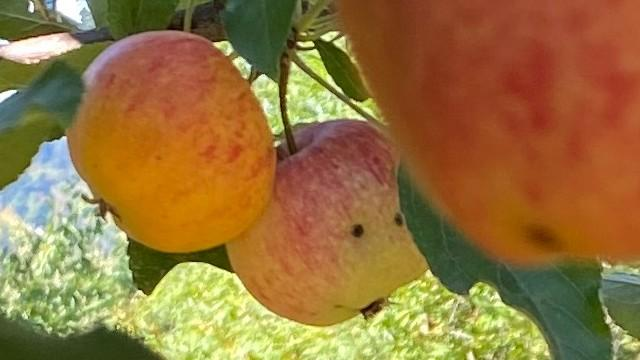fruit: (333, 0, 640, 271), (69, 33, 274, 251), (227, 119, 430, 324)
